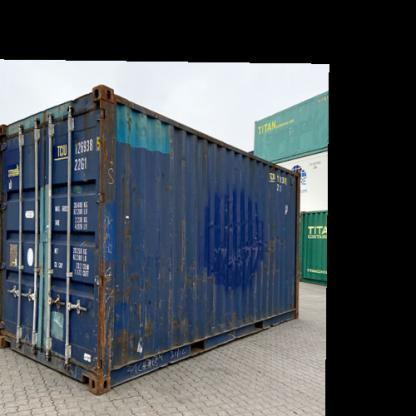Damage: (88, 266, 151, 365), (172, 218, 205, 294), (212, 236, 270, 266), (97, 149, 124, 199), (92, 211, 121, 253), (204, 214, 267, 228), (206, 313, 263, 326), (117, 100, 134, 132), (171, 146, 186, 170), (166, 311, 189, 326)
